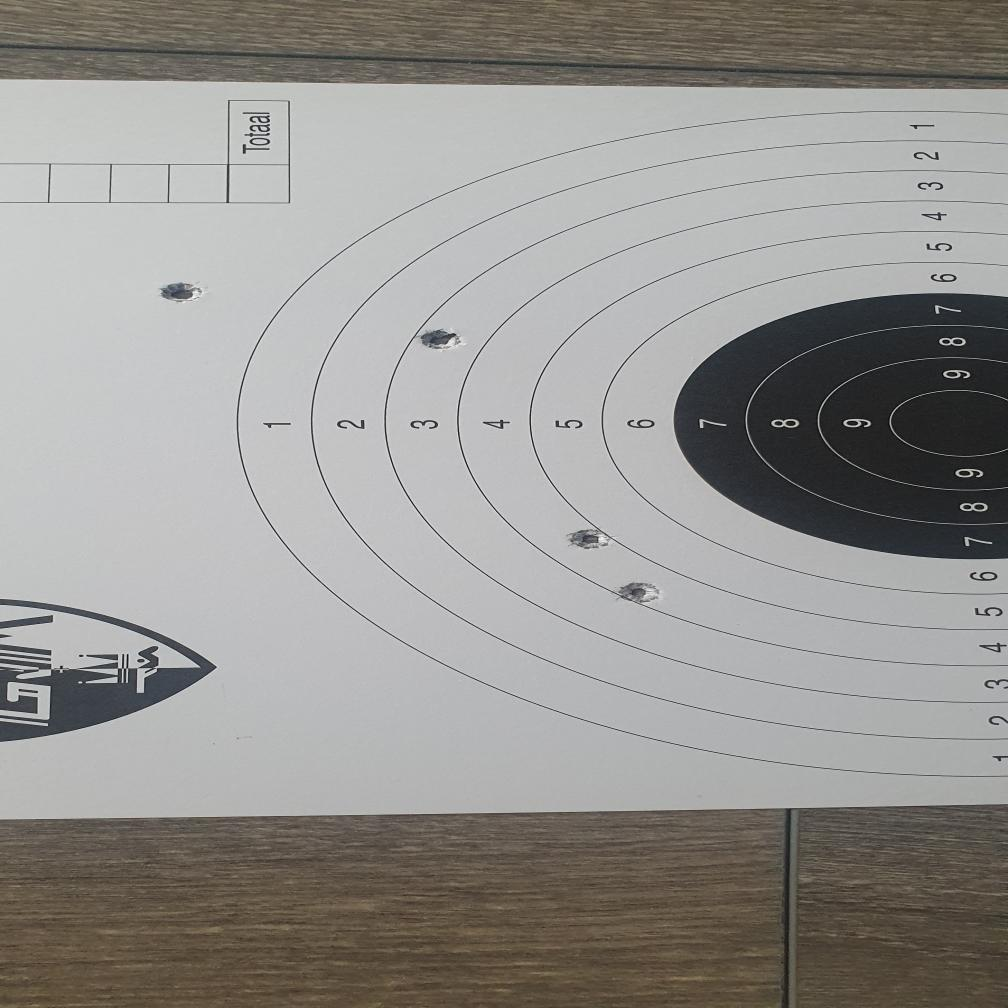0: (155, 279, 213, 304)
3: (411, 327, 469, 352)
4: (612, 581, 664, 605)
5: (564, 526, 618, 550)
Target: (234, 108, 1008, 778)
black_contour: (676, 292, 1008, 560)
